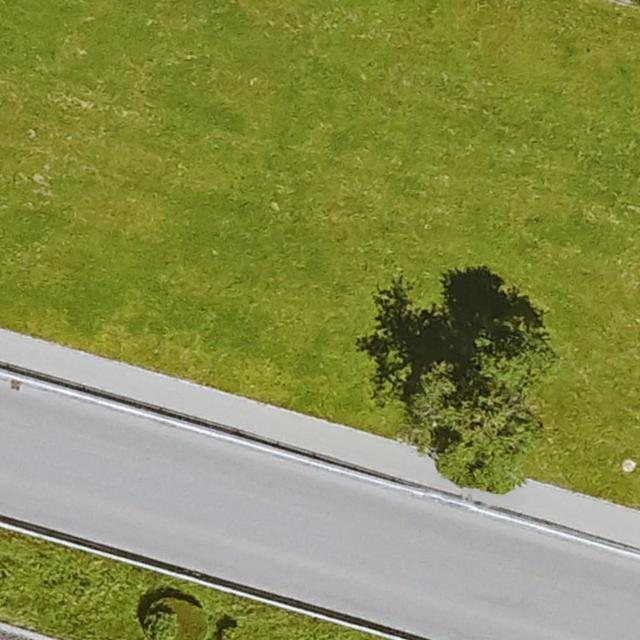tree: (409, 363, 539, 491), (470, 319, 557, 397), (145, 615, 176, 640)
